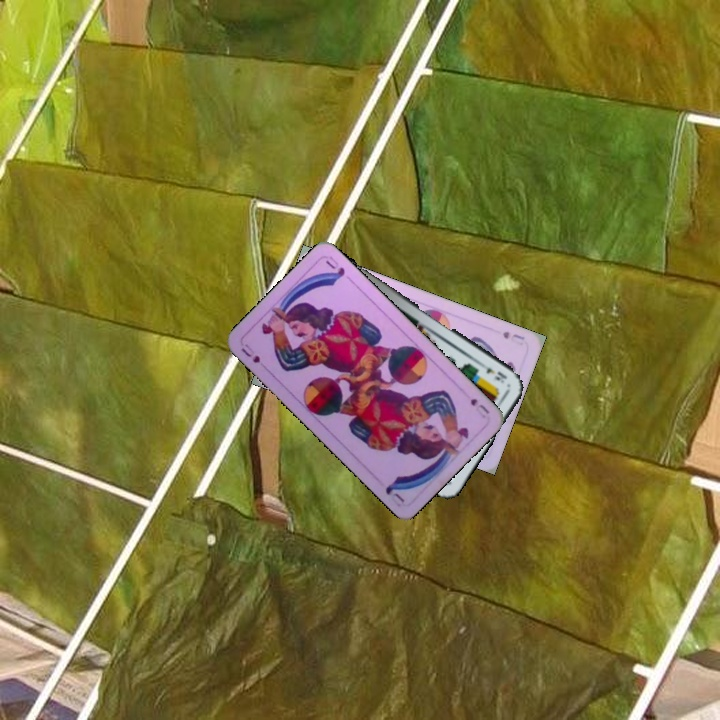EK: (476, 358, 510, 386)
SU: (237, 339, 270, 373), (466, 394, 492, 421), (498, 327, 527, 344)
